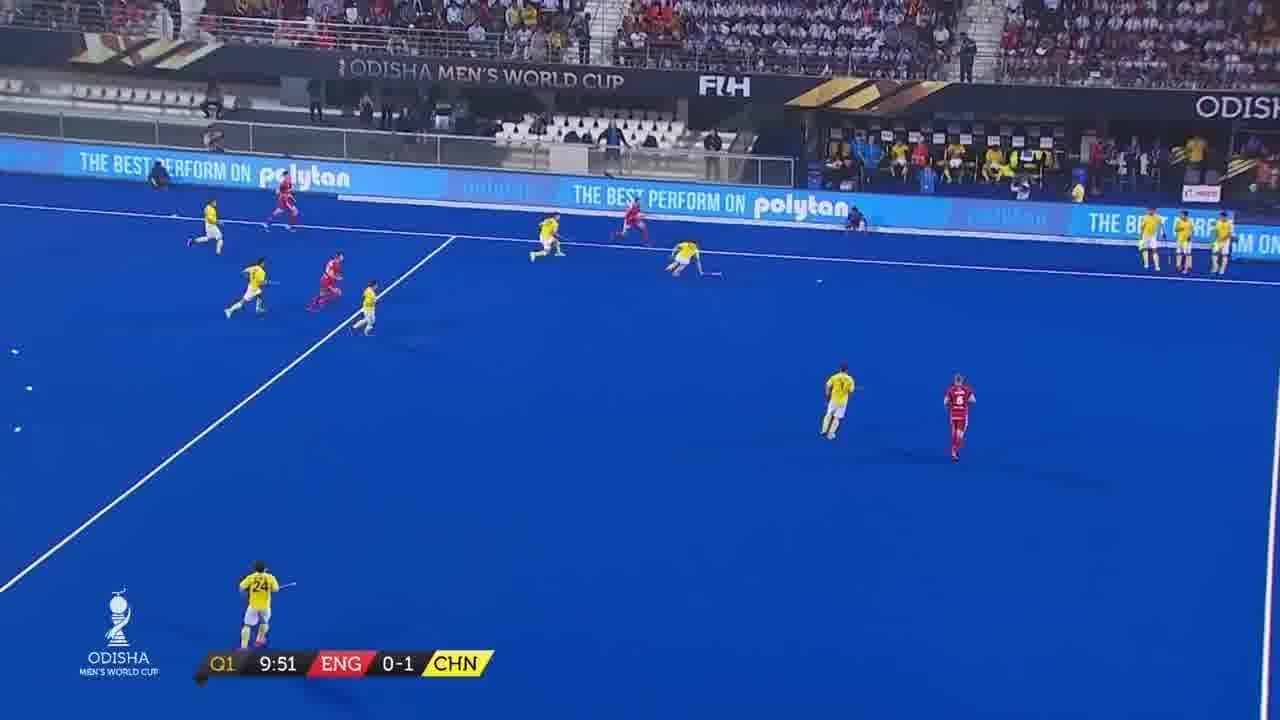ball: (808, 272, 838, 290)
